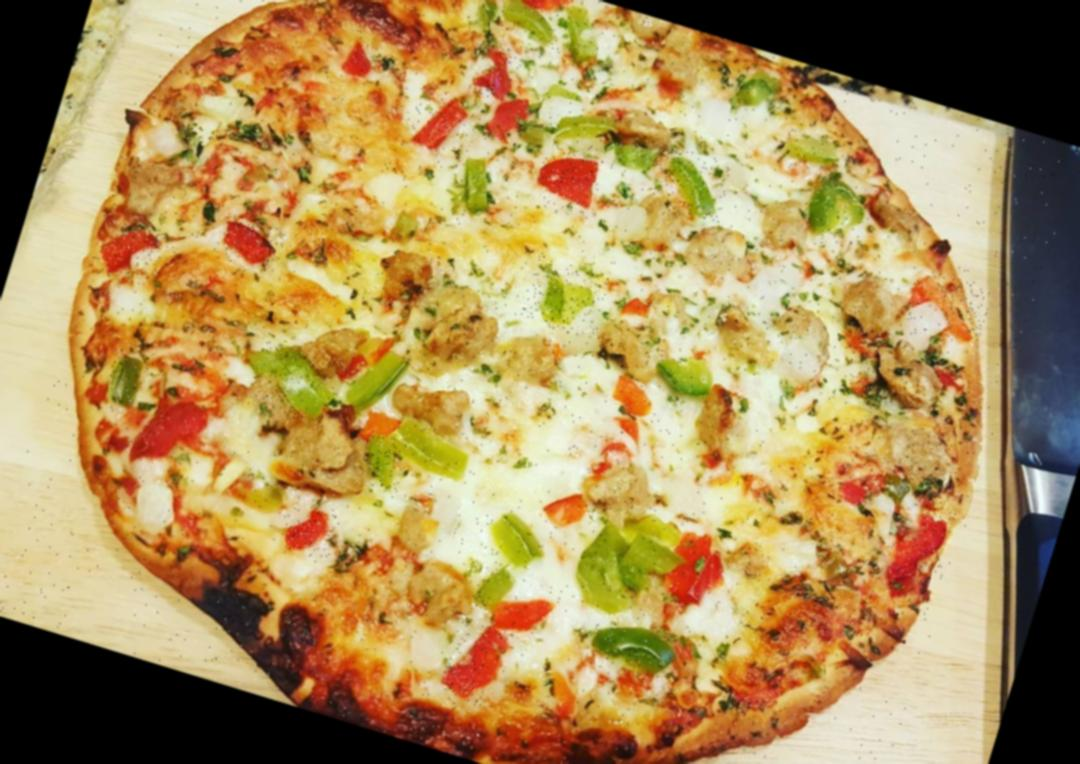Peppers: (565, 496, 700, 640), (869, 488, 961, 612), (117, 384, 215, 488), (246, 337, 348, 431), (380, 414, 486, 494), (900, 266, 994, 354), (584, 612, 686, 692), (438, 612, 518, 712), (518, 254, 611, 340), (338, 330, 418, 426), (471, 500, 560, 579), (651, 144, 737, 224), (90, 206, 168, 290), (798, 173, 876, 254), (532, 143, 610, 218), (480, 79, 550, 161), (406, 85, 481, 161), (650, 341, 726, 407), (483, 578, 559, 644), (548, 0, 616, 71), (548, 96, 624, 159), (830, 320, 892, 396), (211, 212, 289, 272), (774, 123, 852, 181), (98, 342, 156, 419), (279, 494, 344, 562), (447, 152, 506, 223), (354, 430, 412, 500), (724, 60, 787, 124), (532, 476, 596, 538), (468, 44, 526, 106), (489, 0, 564, 47), (610, 132, 672, 182), (471, 560, 517, 618), (335, 32, 384, 86), (514, 0, 588, 25), (879, 465, 918, 508)
Pizza: (0, 0, 1080, 764)
